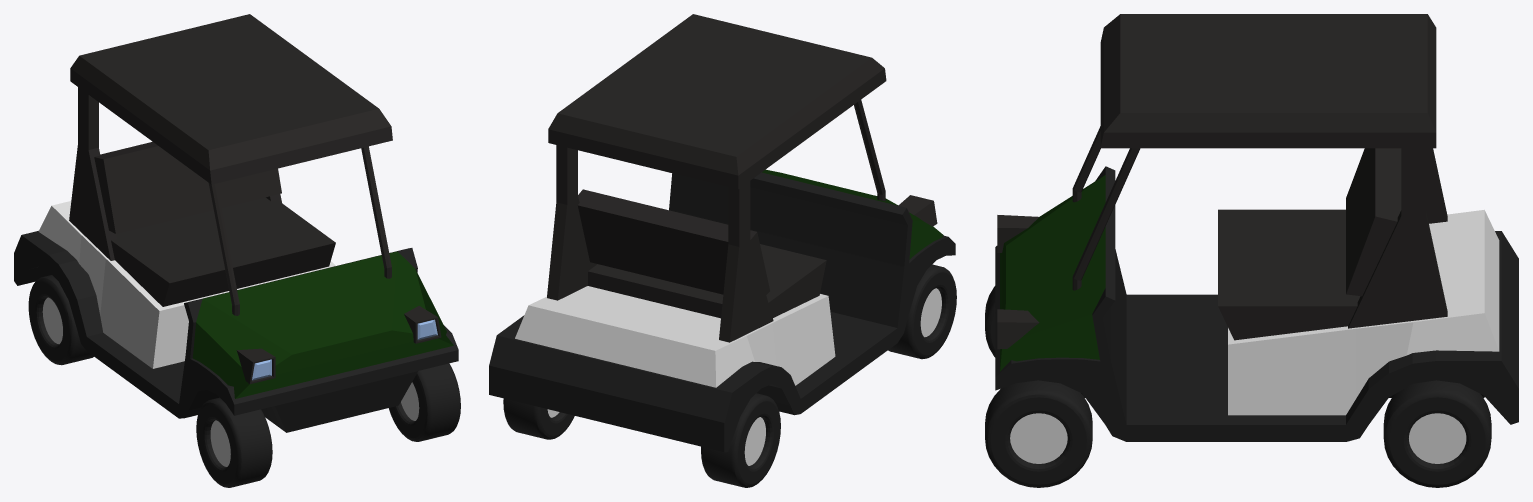
File: cartModel.fbx
3 renders of one model, left to right at view 1: azimuth 30°, elevation 25°; view 2: azimuth 150°, elevation 25°; view 3: azimuth 270°, elevation 25°, orthographic. The views are drawn at different scales.
Parts seen in each view (by area): view 1: Cart Body, FR, FL, RR; view 2: Cart Body, RR, FR, RL; view 3: Cart Body, FL, RL, FR.
Part boxes in pixels (<box>): Cart Body: <box>14,14,458,432</box>; FR: <box>196,397,272,487</box>; FL: <box>388,363,460,441</box>; RR: <box>28,275,93,365</box>; Cart Body: <box>489,14,955,452</box>; RR: <box>701,393,780,487</box>; FR: <box>888,264,956,359</box>; RL: <box>503,398,574,439</box>; Cart Body: <box>995,14,1518,441</box>; FL: <box>985,380,1092,487</box>; RL: <box>1383,380,1491,487</box>; FR: <box>985,286,995,357</box>.
Bounding box in the file's own units: 189 × 244 × 327.
